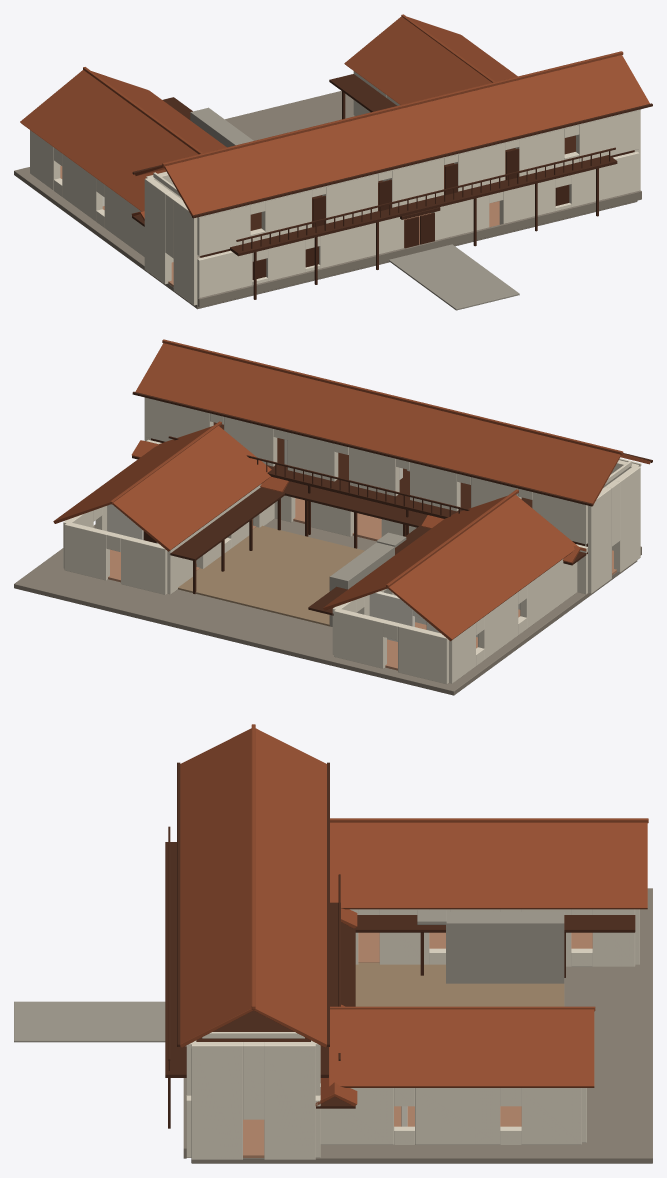
File: JW_Hacienda_Mayorazgo_V6.fbx
3 views of the same model, one above another, from view 1: azimuth 30°, elevation 25°; view 2: azimuth 150°, elevation 25°; view 3: azimuth 270°, elevation 25° (orthographic). The views are drawn at different scales.
Visible parts, largest first — view 1: ARCH_Roof_Main, ARCH_Roof_West, ARCH_Roof_East, ARCH_Foundation, SITE_FacadePath, ARCH_ExteriorBalcony, ARCH_StonePlinth, ARCH_ExteriorWalls_Front_G_04, ARCH_ExteriorWalls_Front_G_10, ARCH_ExteriorWalls_Front_U_12, ARCH_ExteriorWalls_SW_00, ARCH_ExteriorWalls_SW_02 (+25 smaller); view 2: ARCH_Roof_Main, ARCH_Roof_West, ARCH_Foundation, ARCH_Roof_East, SITE_Courtyard, ARCH_ExteriorWalls_W_North_02, ARCH_CourtyardGallery_E, ARCH_ExteriorWalls_W_North_00, ARCH_ExteriorWalls_E_North_00, ARCH_ExteriorWalls_E_North_02, ARCH_ExteriorWalls_SW_02, ARCH_ExteriorWalls_W_Outer_00 (+26 smaller); view 3: ARCH_Roof_Main, ARCH_Roof_West, ARCH_Roof_East, ARCH_Foundation, SITE_Courtyard, SITE_FacadePath, ARCH_ExteriorWalls_SE_02, ARCH_ExteriorWalls_SE_00, ARCH_ExteriorWalls_E_Outer_02, ARCH_ExteriorWalls_E_Outer_00, ARCH_ExteriorWalls_E_Outer_04, ARCH_ExteriorBalcony (+26 smaller).
Part boxes in pixels (x1,y1,x2,y2): ARCH_Roof_Main: [135, 55, 649, 215]; ARCH_Roof_West: [20, 70, 226, 211]; ARCH_Roof_East: [344, 16, 517, 104]; ARCH_Foundation: [14, 91, 637, 309]; SITE_FacadePath: [389, 244, 519, 310]; ARCH_ExteriorBalcony: [229, 155, 617, 256]; ARCH_StonePlinth: [198, 190, 641, 307]; ARCH_ExteriorWalls_Front_G_04: [319, 217, 403, 268]; ARCH_ExteriorWalls_Front_G_10: [569, 151, 639, 206]; ARCH_ExteriorWalls_Front_U_12: [576, 110, 639, 161]; ARCH_ExteriorWalls_SW_00: [173, 198, 200, 305]; ARCH_ExteriorWalls_SW_02: [144, 178, 171, 284]; ARCH_Roof_Main: [135, 343, 650, 504]; ARCH_Roof_West: [323, 494, 578, 641]; ARCH_Foundation: [14, 518, 637, 695]; ARCH_Roof_East: [53, 426, 271, 551]; SITE_Courtyard: [178, 525, 364, 626]; ARCH_ExteriorWalls_W_North_02: [334, 609, 386, 668]; ARCH_CourtyardGallery_E: [170, 481, 297, 561]; ARCH_ExteriorWalls_W_North_00: [398, 624, 448, 684]; ARCH_ExteriorWalls_E_North_00: [121, 535, 167, 594]; ARCH_ExteriorWalls_E_North_02: [64, 522, 109, 580]; ARCH_ExteriorWalls_SW_02: [585, 486, 611, 593]; ARCH_ExteriorWalls_W_Outer_00: [520, 544, 578, 628]; ARCH_Roof_Main: [180, 728, 326, 1047]; ARCH_Roof_West: [330, 822, 647, 909]; ARCH_Roof_East: [329, 1009, 594, 1087]; ARCH_Foundation: [191, 888, 652, 1163]; SITE_Courtyard: [355, 962, 564, 1006]; SITE_FacadePath: [14, 1001, 165, 1042]; ARCH_ExteriorWalls_SE_02: [264, 1042, 315, 1159]; ARCH_ExteriorWalls_SE_00: [191, 1042, 242, 1159]; ARCH_ExteriorWalls_E_Outer_02: [415, 1088, 500, 1144]; ARCH_ExteriorWalls_E_Outer_00: [320, 1083, 393, 1144]; ARCH_ExteriorWalls_E_Outer_04: [521, 1088, 581, 1144]; ARCH_ExteriorBalcony: [165, 842, 186, 1077].
Size of the model in its own units: 37.6 by 10.16 by 36.
